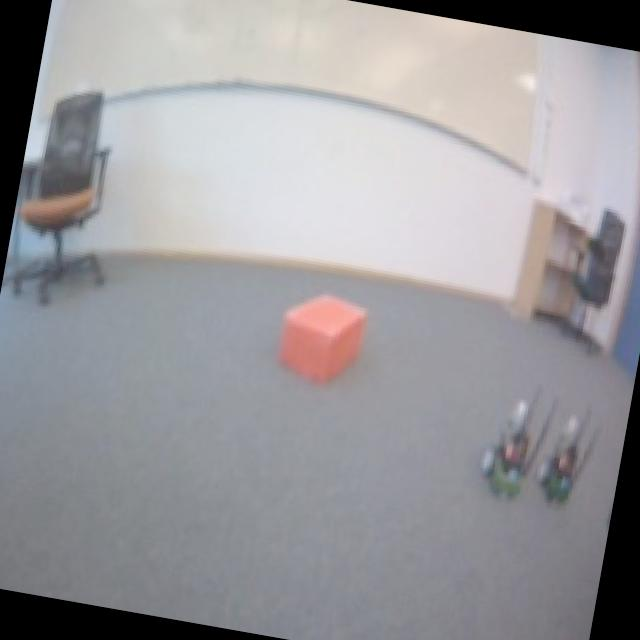robot: (473, 416, 541, 508), (528, 432, 590, 512)
target: (270, 282, 370, 388)
